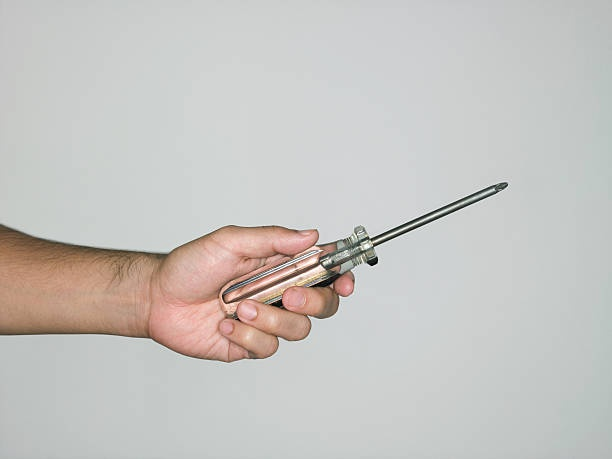screwdriver: (214, 180, 510, 315)
